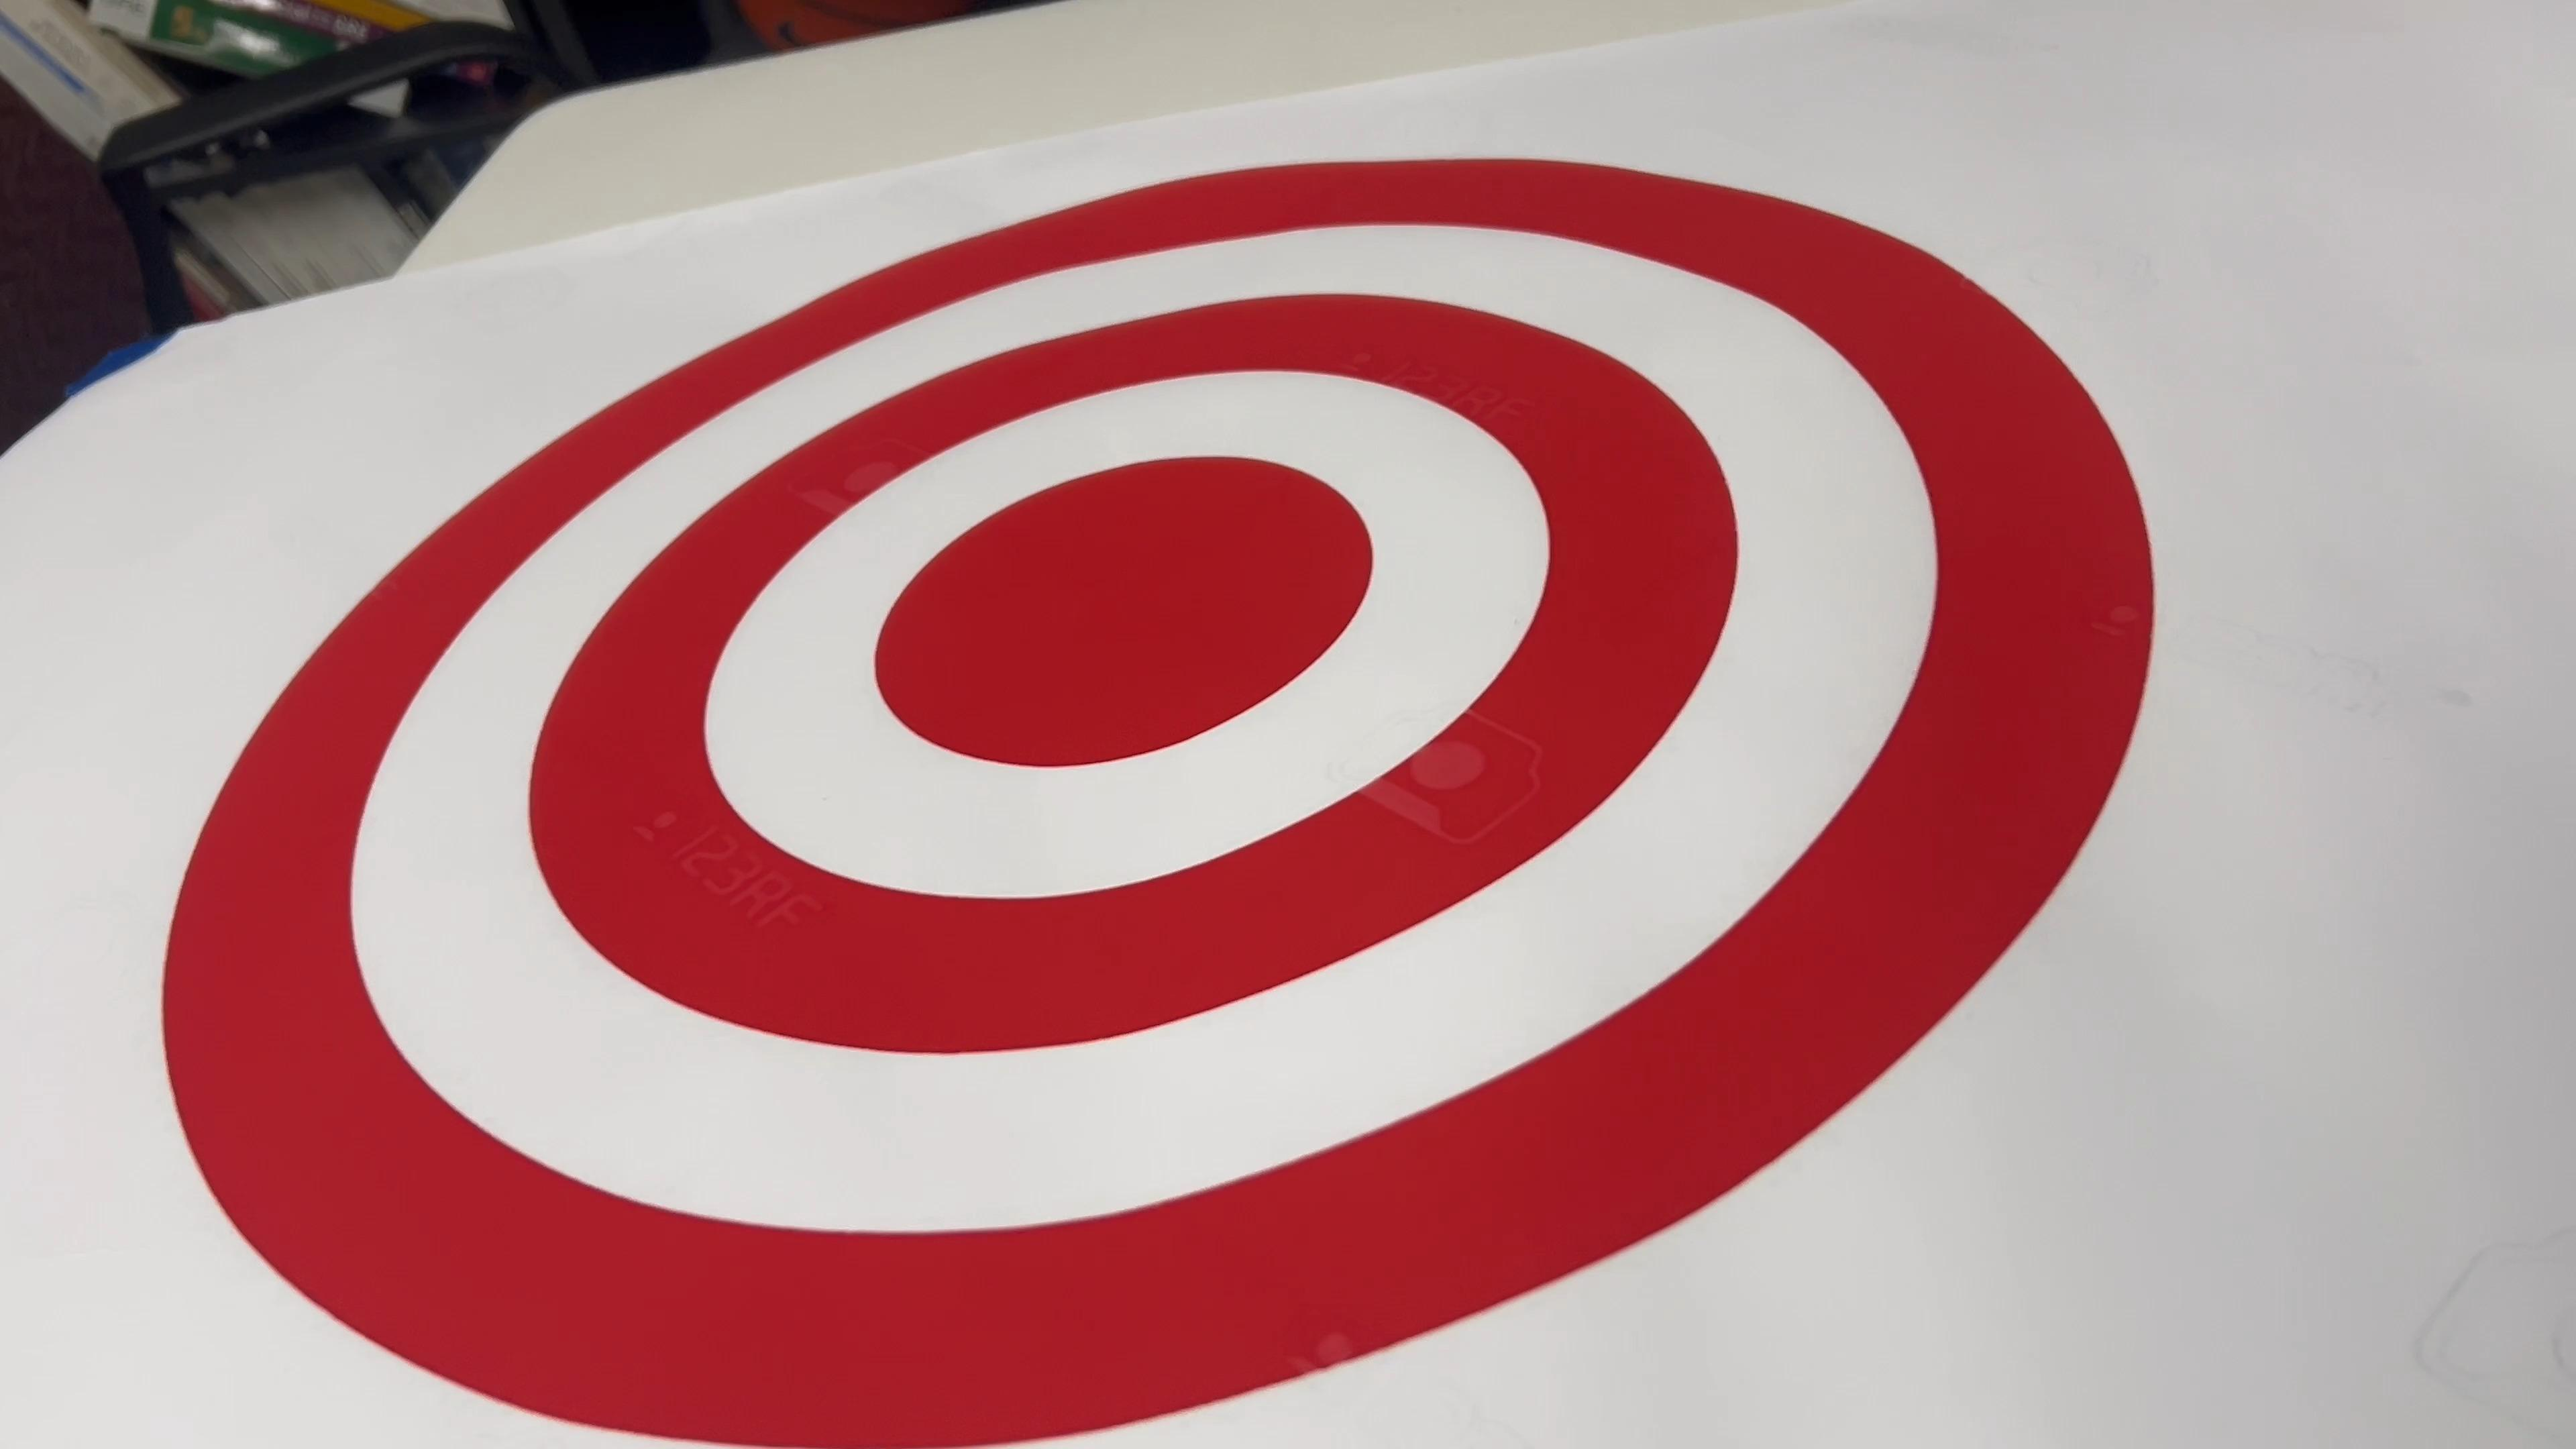target_red: (122, 122, 2173, 1449)
